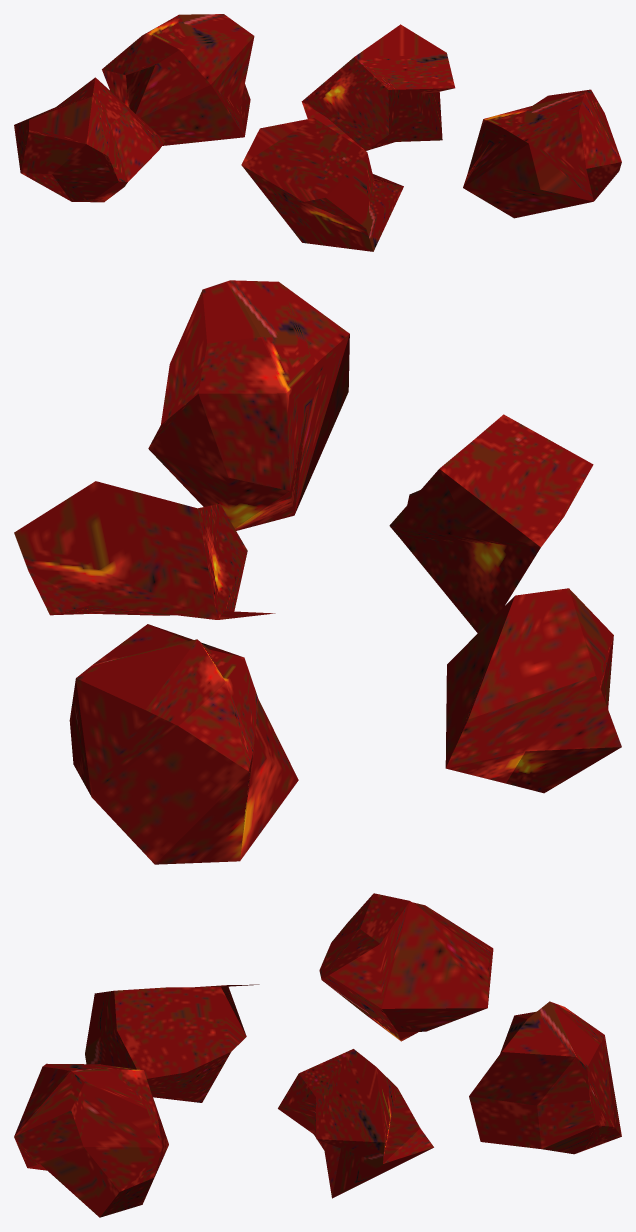
Rendered from bodyparts.fbx.
3 views of the same model, one above another, from view 1: azimuth 30°, elevation 25°; view 2: azimuth 150°, elevation 25°; view 3: azimuth 270°, elevation 25° (orthographic). The views are drawn at different scales.
Parts seen in each view (by area): view 1: Cube.002, Cube.004, Cube, Cube.003, Cube.001; view 2: Cube.002, Cube.004, Cube.001, Cube.003, Cube; view 3: Cube.001, Cube.004, Cube.002, Cube, Cube.003.
Part boxes in pixels (left/top/right/bottom): Cube.002: left=102, top=14, right=254, bottom=145; Cube.004: left=463, top=89, right=621, bottom=218; Cube: left=241, top=118, right=403, bottom=251; Cube.003: left=301, top=24, right=455, bottom=150; Cube.001: left=14, top=77, right=165, bottom=202; Cube.002: left=69, top=624, right=298, bottom=864; Cube.004: left=148, top=280, right=349, bottom=530; Cube.001: left=445, top=588, right=621, bottom=793; Cube.003: left=14, top=481, right=275, bottom=619; Cube: left=389, top=414, right=593, bottom=633; Cube.001: left=319, top=893, right=493, bottom=1041; Cube.004: left=14, top=1063, right=168, bottom=1217; Cube.002: left=469, top=1001, right=621, bottom=1154; Cube: left=85, top=984, right=259, bottom=1102; Cube.003: left=278, top=1049, right=433, bottom=1198.
Size of the model in its own units: 1233 by 432 by 1317.
